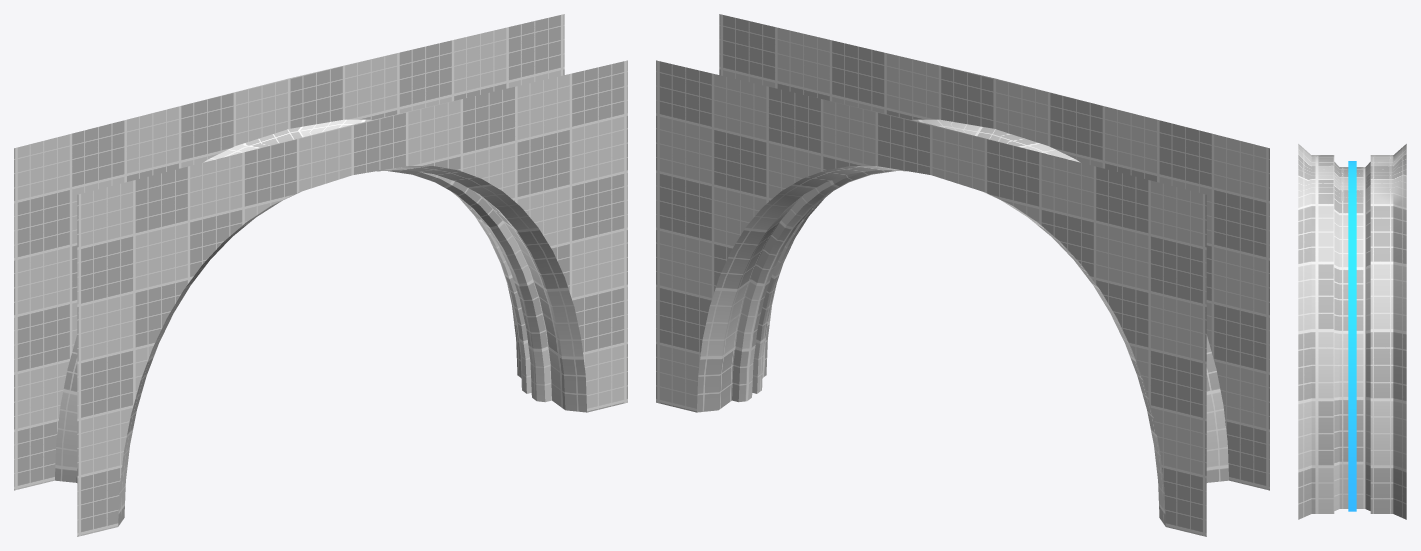
File: Tuto_Room_6.fbx
3 renders of one model, left to right at view 1: azimuth 30°, elevation 25°; view 2: azimuth 150°, elevation 25°; view 3: azimuth 270°, elevation 25°, orthographic. The views are drawn at different scales.
Parts seen in each view (by area): view 1: Cube.003; view 2: Cube.003; view 3: Cube.003.
Boxes of the visible parts, <box> form: Cube.003: <box>14,14,627,536</box>; Cube.003: <box>656,14,1269,536</box>; Cube.003: <box>1298,144,1406,519</box>.
Bounding box in the file's own units: 1004 × 601 × 200.
